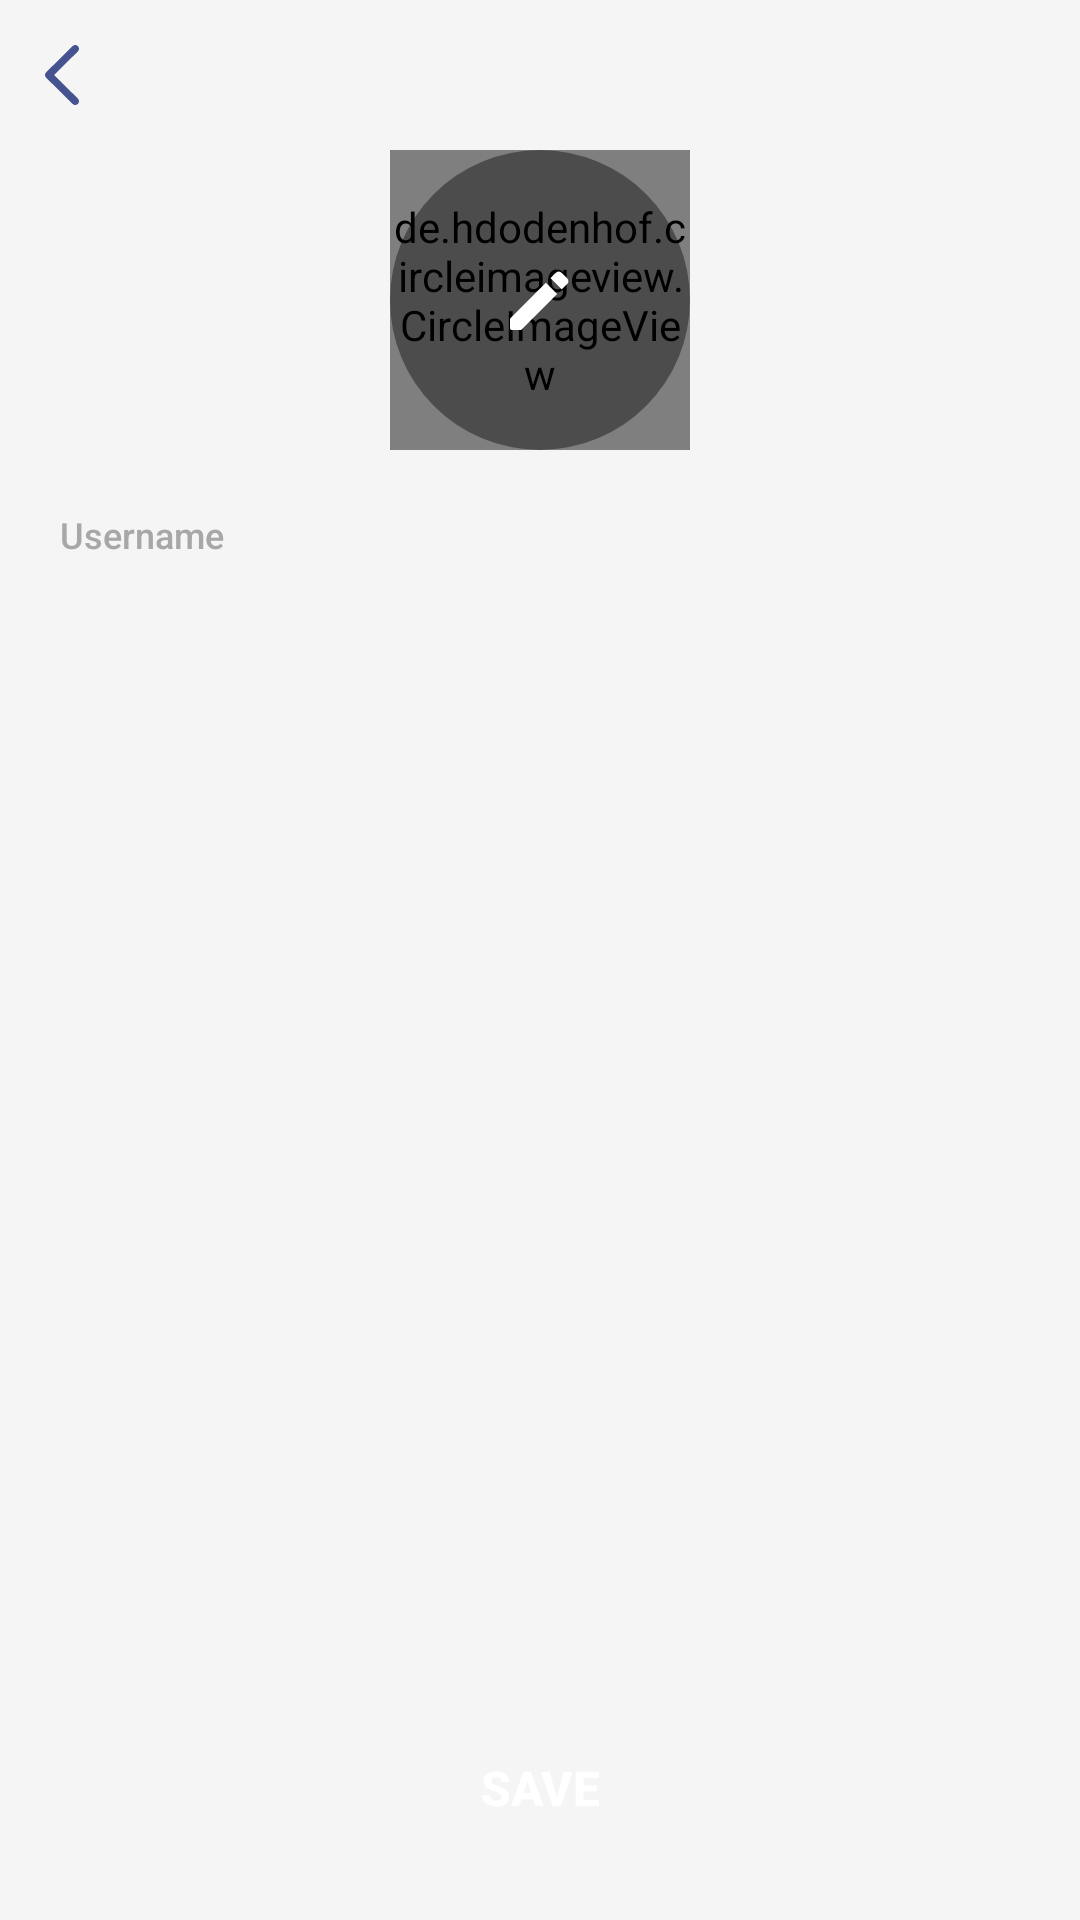

Icons on this 1080px x 1920px Android screen, each with its box as (x1, y1, x2, y2):
Back: (45, 45, 79, 105)
